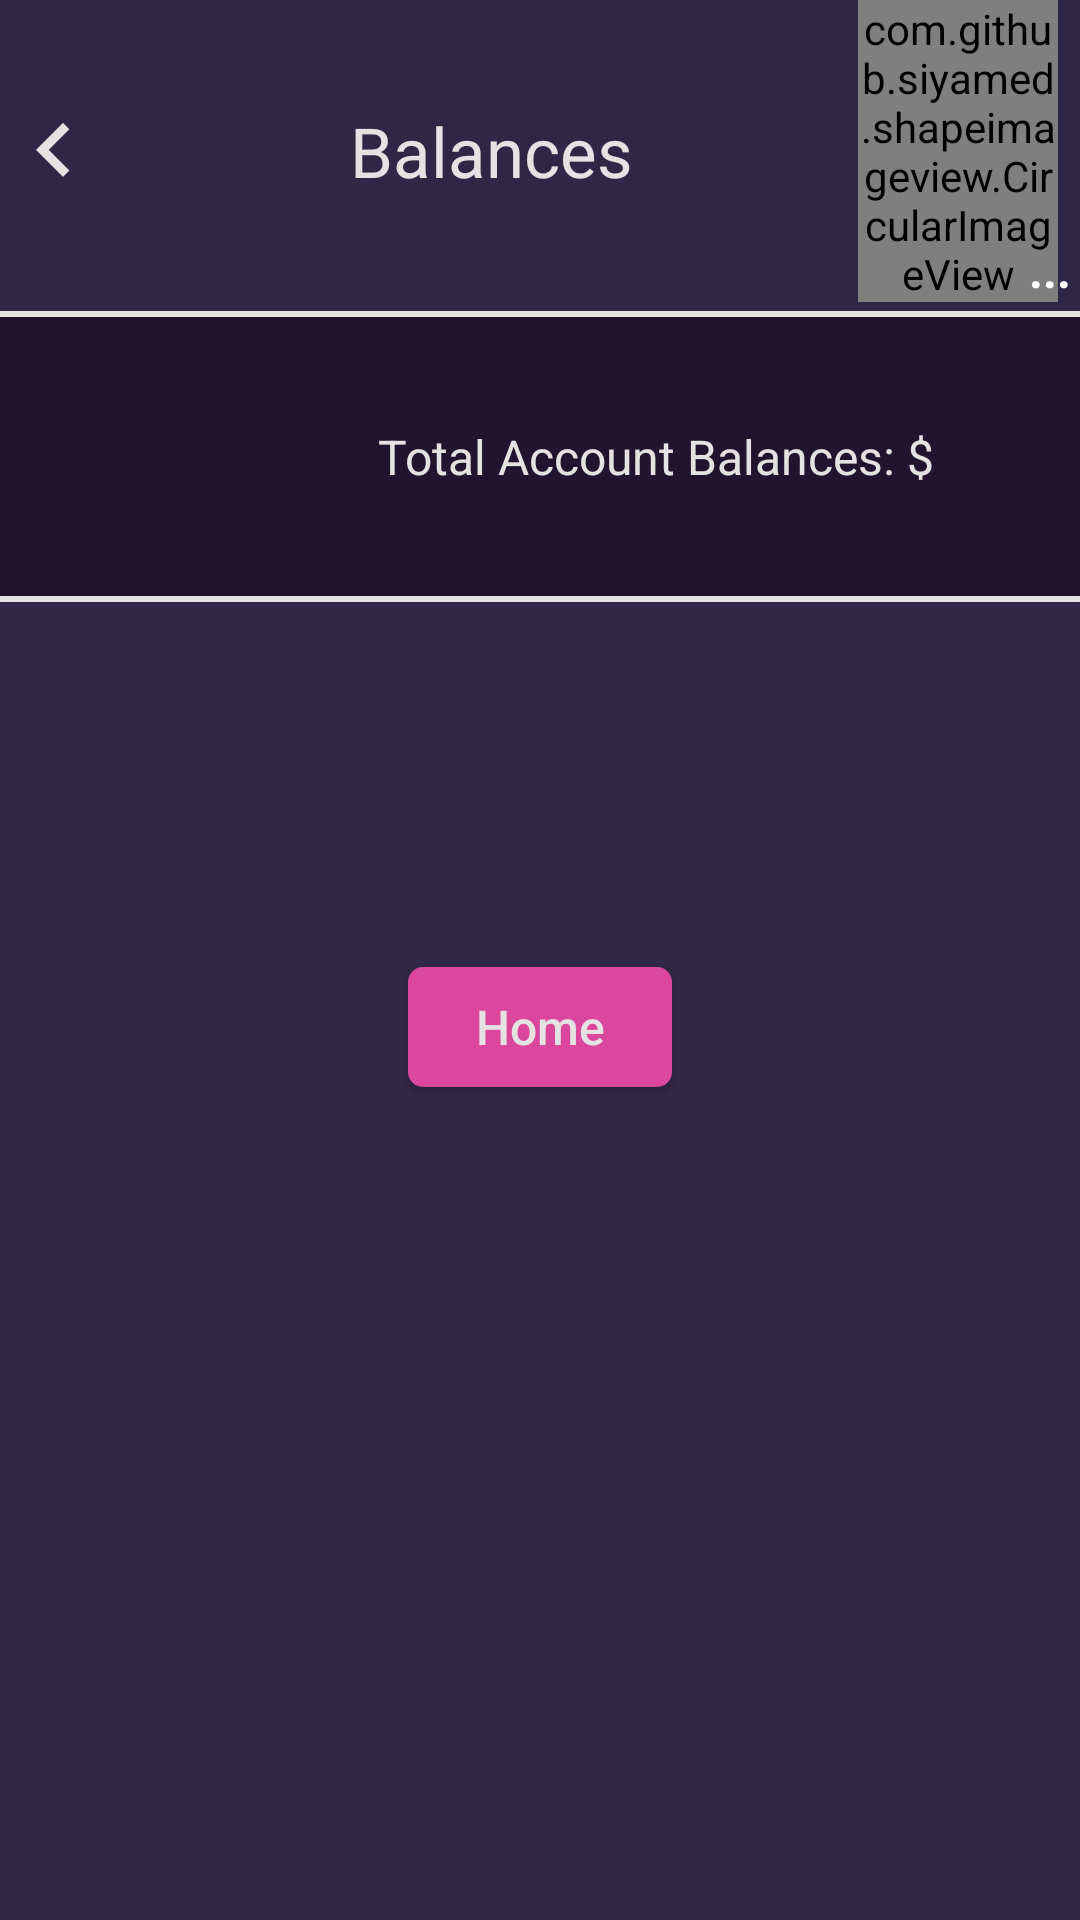

Icon bounding boxes for this 1080 × 1920 phone screenshot, format region(x1, y1, x2, y2):
arrow left: region(36, 123, 69, 177)
